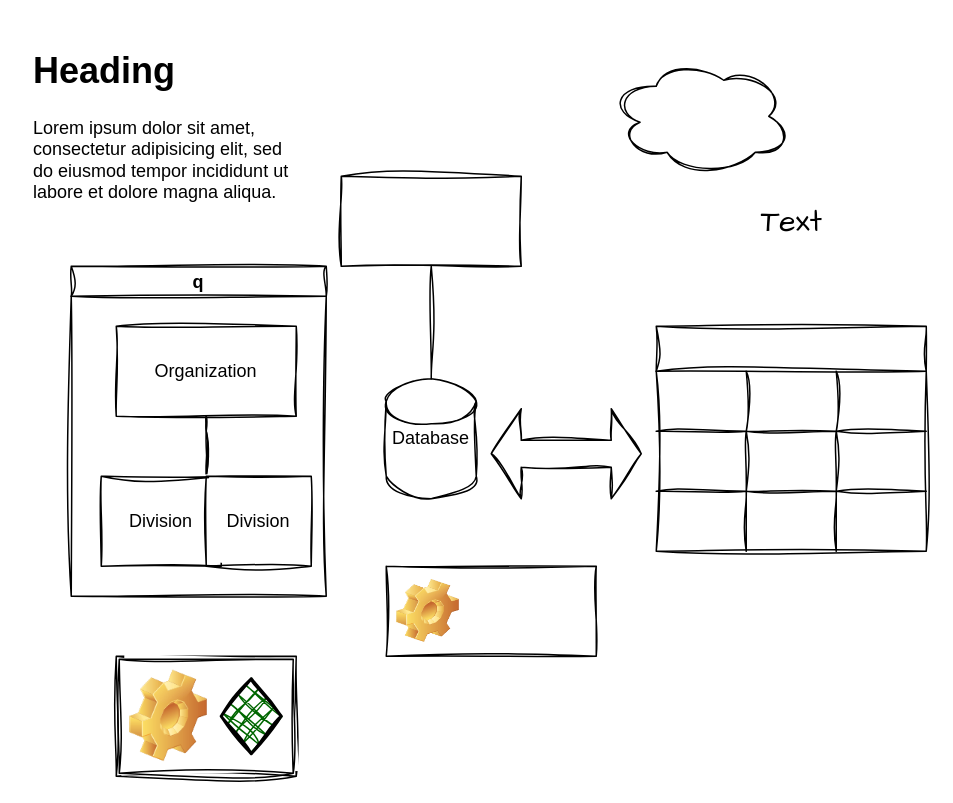
Some shapes in this 953 by 803 pixel diagram are drawn without their labels. Each missing label, with the centre of its shape:
"Label" belongs at (x=490, y=610).
"Server" belongs at (x=430, y=220).
"Table" belongs at (x=790, y=438).
